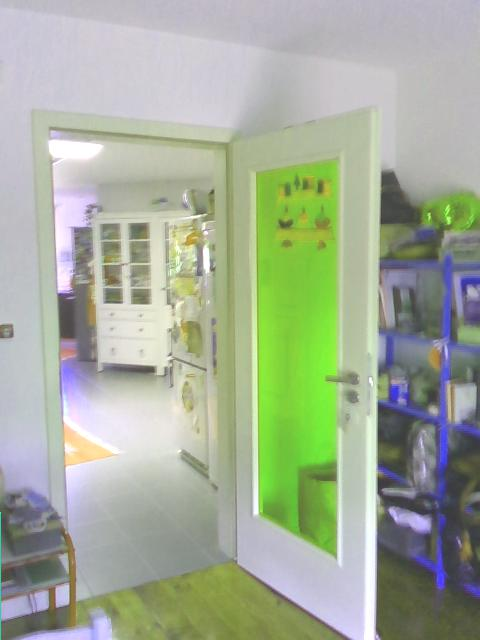open_door: (32, 124, 236, 639)
